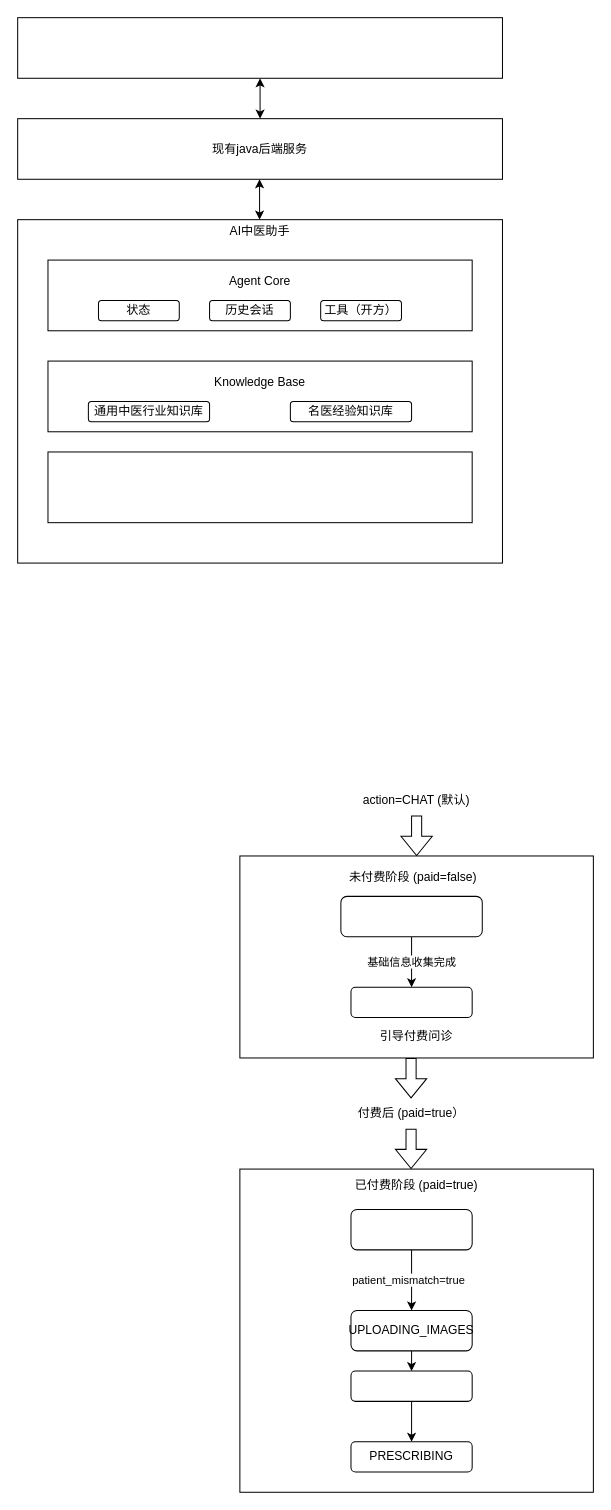
Some shapes in this 611 by 1510 pixel diagram are drawn without their labels. The shapes that lost their labels are listed below. From the top down, each one's centre as x and y in pixels, then its label:
the point at 259,47: 患者小程序 / 医生APP
the point at 259,487: 多模态能力 舍面照分析 / 舌苔色识别
the point at 411,916: COLLECTING_BASIC
the point at 411,1002: INQUIRY
the point at 411,1229: SELECTING_PATIENT
the point at 411,1385: DIAGNOSIS
